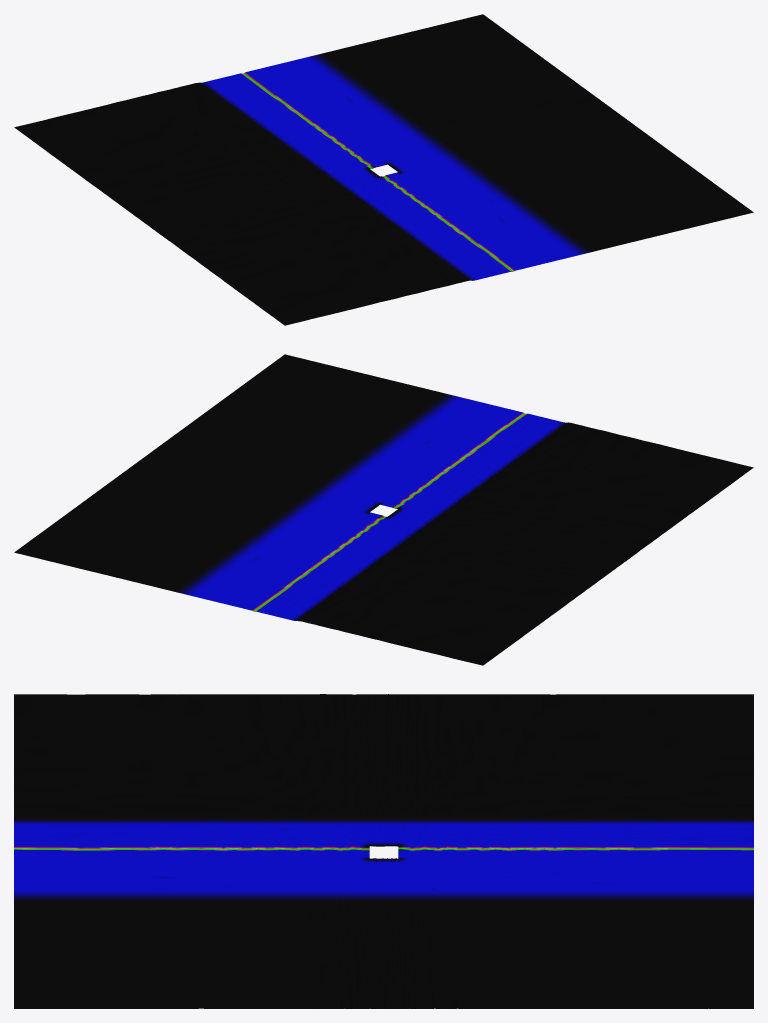
File: SM_RiyadhNights_Backdrop.fbx
3 views of the same model, one above another, from view 1: azimuth 30°, elevation 25°; view 2: azimuth 150°, elevation 25°; view 3: azimuth 270°, elevation 25° (orthographic). The views are drawn at different scales.
Parts seen in each view (by area): view 1: SM_RiyadhNights_Backdrop; view 2: SM_RiyadhNights_Backdrop; view 3: SM_RiyadhNights_Backdrop.
Part boxes in pixels (left/top/right/bottom): SM_RiyadhNights_Backdrop: left=14, top=14, right=753, bottom=325; SM_RiyadhNights_Backdrop: left=14, top=354, right=753, bottom=665; SM_RiyadhNights_Backdrop: left=14, top=694, right=753, bottom=1008.
Size of the model in its own units: 5040346 by 21261 by 5040346.
